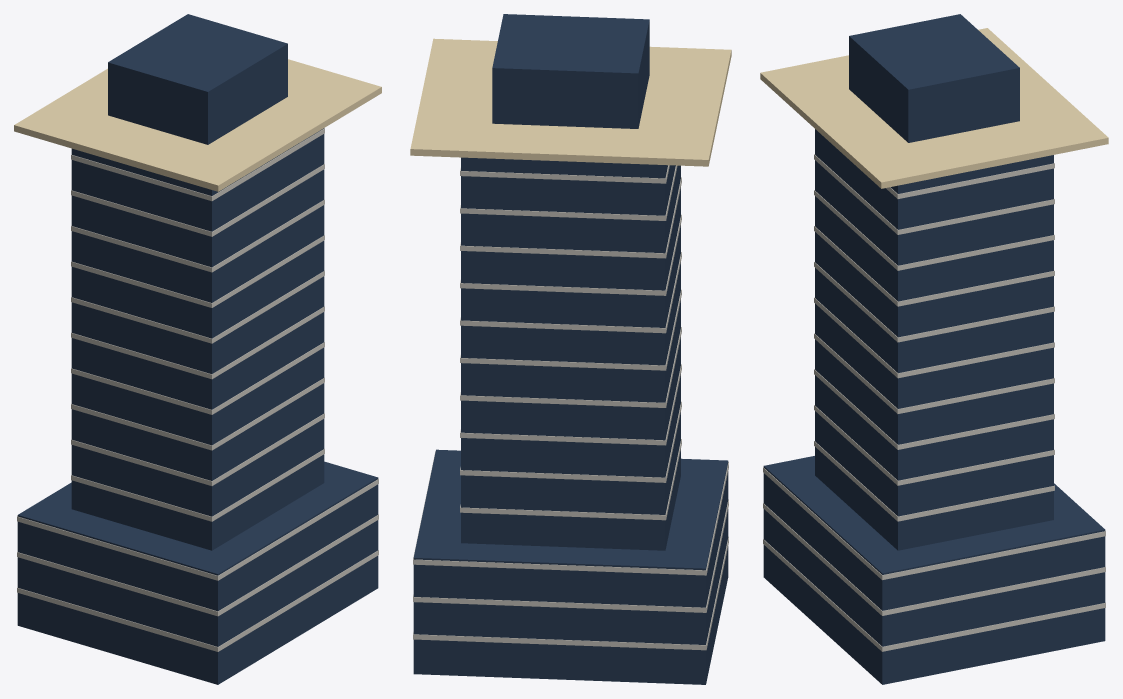
The model's file is ubora-tower-2.glb.
3 views of the same model, side by side, from view 1: azimuth 30°, elevation 25°; view 2: azimuth 150°, elevation 25°; view 3: azimuth 270°, elevation 25° (orthographic). The views are drawn at different scales.
Visible parts, largest first — view 1: M_ubora-tower-2, ubora-tower-2_gold, band.889, band.890, band.891, band.895, band.897, band.900, band.893, band.894, band.896, band.898 (+3 smaller); view 2: M_ubora-tower-2, ubora-tower-2_gold, band.891, band.889, band.890, band.896, band.894, band.895, band.893, band.898, band.897, band.899 (+3 smaller); view 3: M_ubora-tower-2, ubora-tower-2_gold, band.890, band.889, band.891, band.893, band.896, band.898, band.900, band.895, band.897, band.892 (+3 smaller).
Boxes of the visible parts, left/top/right/bottom form: M_ubora-tower-2: left=17, top=14, right=378, bottom=684; ubora-tower-2_gold: left=14, top=59, right=381, bottom=191; band.889: left=17, top=550, right=378, bottom=651; band.890: left=17, top=514, right=378, bottom=616; band.891: left=17, top=479, right=378, bottom=580; band.895: left=71, top=342, right=324, bottom=414; band.897: left=71, top=270, right=324, bottom=343; band.900: left=71, top=164, right=324, bottom=236; band.893: left=71, top=413, right=324, bottom=485; band.894: left=71, top=377, right=324, bottom=450; band.896: left=71, top=306, right=324, bottom=379; band.898: left=71, top=235, right=324, bottom=307; M_ubora-tower-2: left=413, top=14, right=728, bottom=684; ubora-tower-2_gold: left=410, top=38, right=731, bottom=166; band.891: left=413, top=451, right=728, bottom=575; band.889: left=413, top=536, right=728, bottom=650; band.890: left=413, top=499, right=728, bottom=612; band.896: left=460, top=289, right=681, bottom=370; band.894: left=460, top=364, right=681, bottom=445; band.895: left=460, top=327, right=681, bottom=407; band.893: left=460, top=401, right=681, bottom=482; band.898: left=460, top=214, right=681, bottom=295; band.897: left=460, top=252, right=681, bottom=333; band.899: left=460, top=177, right=681, bottom=258; M_ubora-tower-2: left=763, top=14, right=1105, bottom=684; ubora-tower-2_gold: left=760, top=28, right=1108, bottom=188; band.890: left=763, top=503, right=1105, bottom=615; band.889: left=763, top=539, right=1105, bottom=651; band.891: left=763, top=467, right=1105, bottom=580; band.893: left=814, top=405, right=1054, bottom=485; band.896: left=814, top=297, right=1054, bottom=378; band.898: left=814, top=226, right=1054, bottom=306; band.900: left=814, top=154, right=1054, bottom=234; band.895: left=814, top=333, right=1054, bottom=413; band.897: left=814, top=262, right=1054, bottom=342; band.892: left=814, top=441, right=1054, bottom=521.
Size of the model in its own units: 41.65 by 70 by 39.68.
